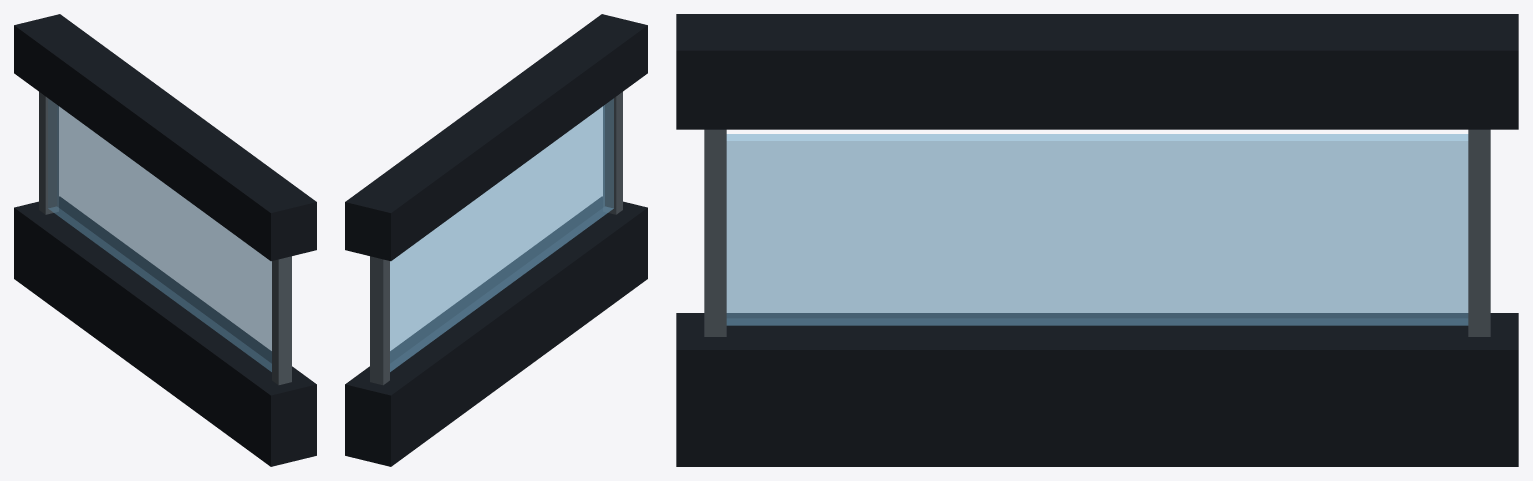
Rendered from wall.windowed_6m.glb.
3 renders of one model, left to right at view 1: azimuth 30°, elevation 25°; view 2: azimuth 150°, elevation 25°; view 3: azimuth 270°, elevation 25°, orthographic. The views are drawn at different scales.
Parts seen in each view (by area): view 1: lower_wall, top_wall, glass_band, frame_b, frame_a; view 2: lower_wall, top_wall, glass_band, frame_a, frame_b; view 3: glass_band, lower_wall, top_wall, frame_a, frame_b.
Boxes of the visible parts, x1=… form: lower_wall: x1=14, y1=196, x2=316, y2=466; top_wall: x1=14, y1=14, x2=316, y2=261; glass_band: x1=48, y1=98, x2=271, y2=371; frame_b: x1=272, y1=256, x2=291, y2=385; frame_a: x1=39, y1=92, x2=58, y2=214; lower_wall: x1=345, y1=196, x2=647, y2=466; top_wall: x1=345, y1=14, x2=647, y2=261; glass_band: x1=390, y1=98, x2=613, y2=371; frame_a: x1=370, y1=256, x2=389, y2=385; frame_b: x1=603, y1=92, x2=622, y2=214; glass_band: x1=726, y1=134, x2=1468, y2=325; lower_wall: x1=676, y1=313, x2=1518, y2=466; top_wall: x1=676, y1=14, x2=1518, y2=129; frame_a: x1=1468, y1=129, x2=1490, y2=336; frame_b: x1=704, y1=129, x2=726, y2=336.
Size of the model in its own units: 0.62 by 3.27 by 6.
